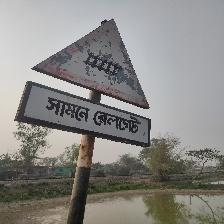Rail-crossing: (15, 17, 152, 147)
